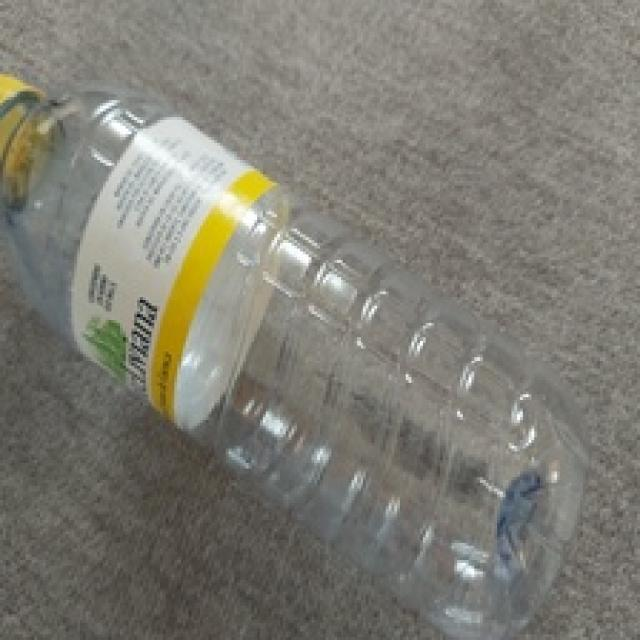Plastic: (0, 67, 591, 636)
